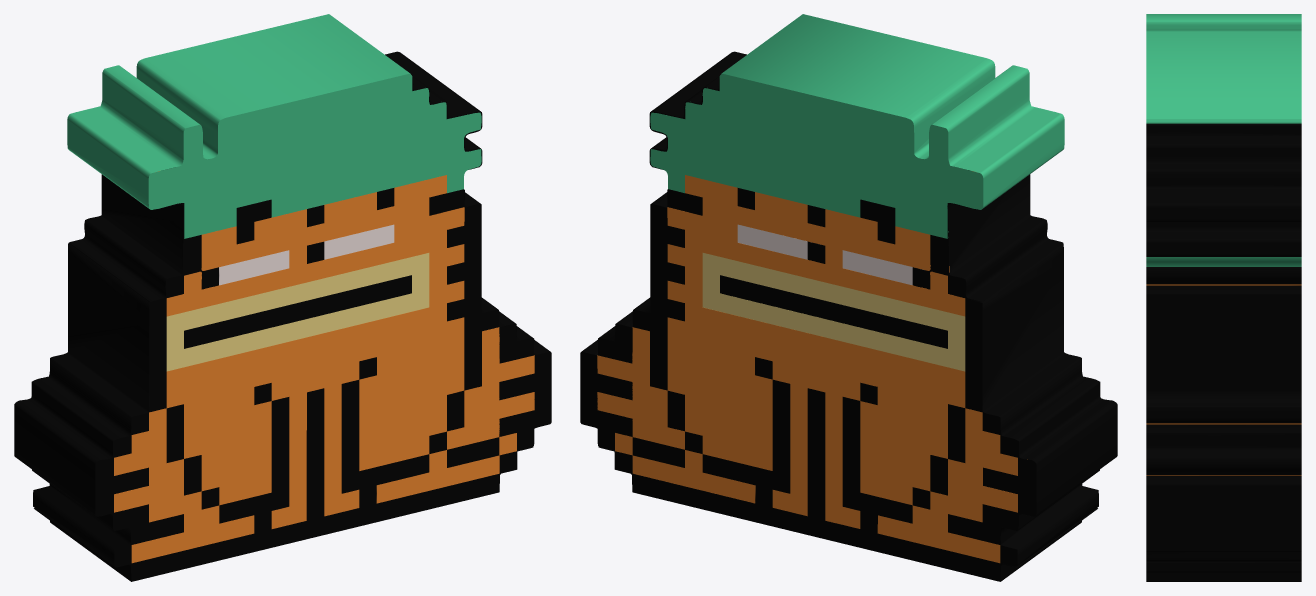
File: Toadz_917.glb
3 views of the same model, side by side, from view 1: azimuth 30°, elevation 25°; view 2: azimuth 150°, elevation 25°; view 3: azimuth 270°, elevation 25° (orthographic). The views are drawn at different scales.
Visible parts, largest first — view 1: Curve; view 2: Curve; view 3: Curve.
Part boxes in pixels (x1,y1,x2,y2): Curve: (14, 14, 551, 581); Curve: (580, 14, 1117, 581); Curve: (1146, 14, 1301, 581).
Size of the model in its own units: 3.24 by 3 by 1.
